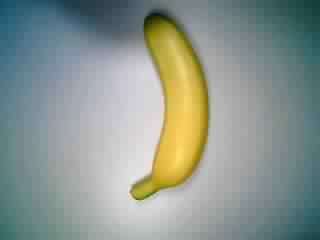banana: (126, 10, 212, 202)
